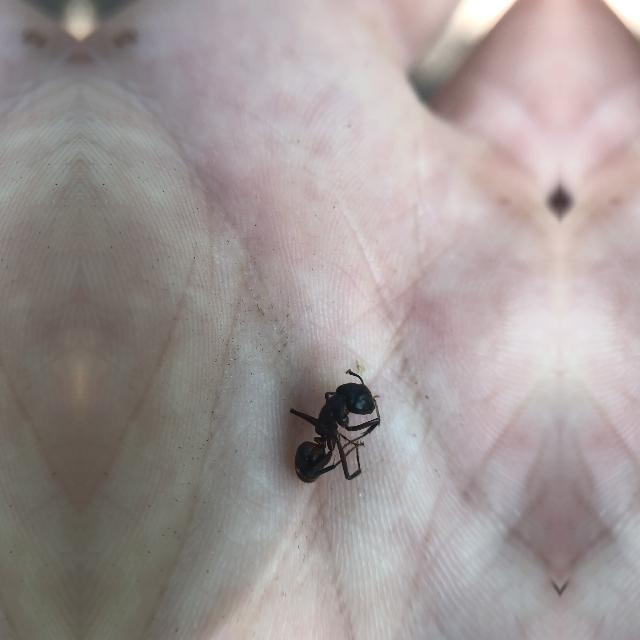Camponotus: (281, 357, 385, 495)
